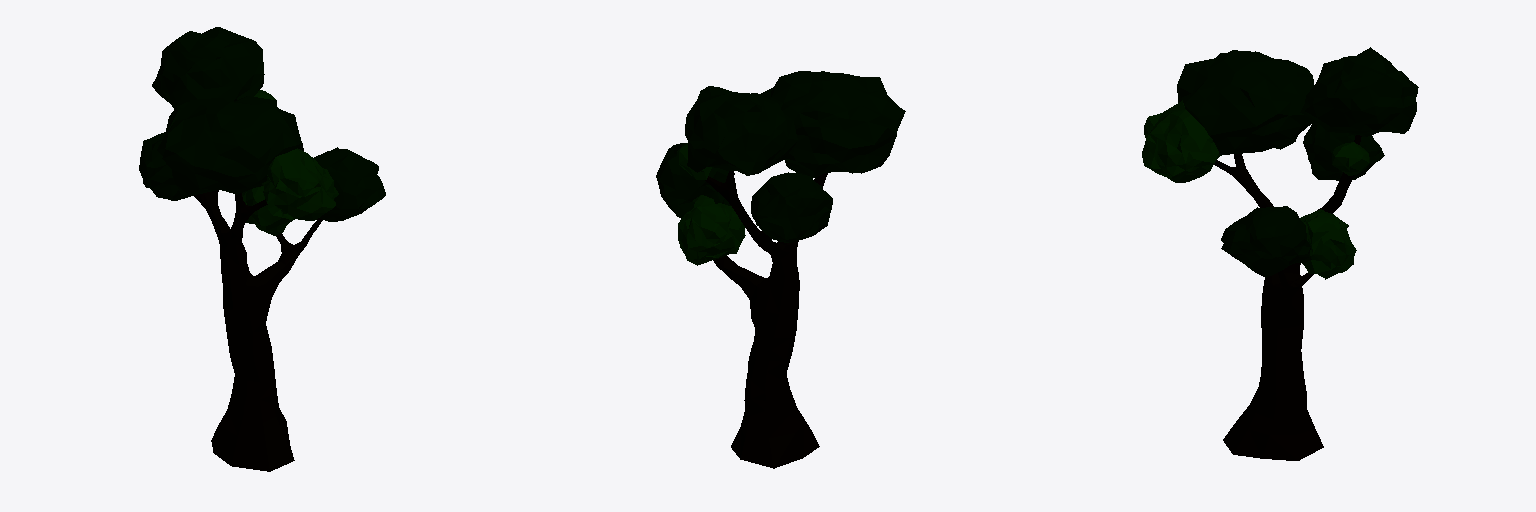
File: common_tree_3.obj
3 views of the same model, side by side, from view 1: azimuth 30°, elevation 25°; view 2: azimuth 150°, elevation 25°; view 3: azimuth 270°, elevation 25° (orthographic).
Parts seen in each view (by area): view 1: common_tree_3_leaves_dark, common_tree_3_trunk, common_tree_3_leaves; view 2: common_tree_3_leaves_dark, common_tree_3_trunk, common_tree_3_leaves; view 3: common_tree_3_leaves_dark, common_tree_3_trunk, common_tree_3_leaves.
Part boxes in pixels (x1,y1,x2,y2): common_tree_3_leaves_dark: (139,27,385,221); common_tree_3_trunk: (194,190,322,471); common_tree_3_leaves: (242,90,338,235); common_tree_3_leaves_dark: (656,71,905,242); common_tree_3_trunk: (705,171,827,468); common_tree_3_leaves: (677,143,745,265); common_tree_3_leaves_dark: (1177,47,1418,277); common_tree_3_trunk: (1214,135,1361,460); common_tree_3_leaves: (1142,100,1369,279).
Size of the model in its own units: 3.65 by 6.04 by 3.95.